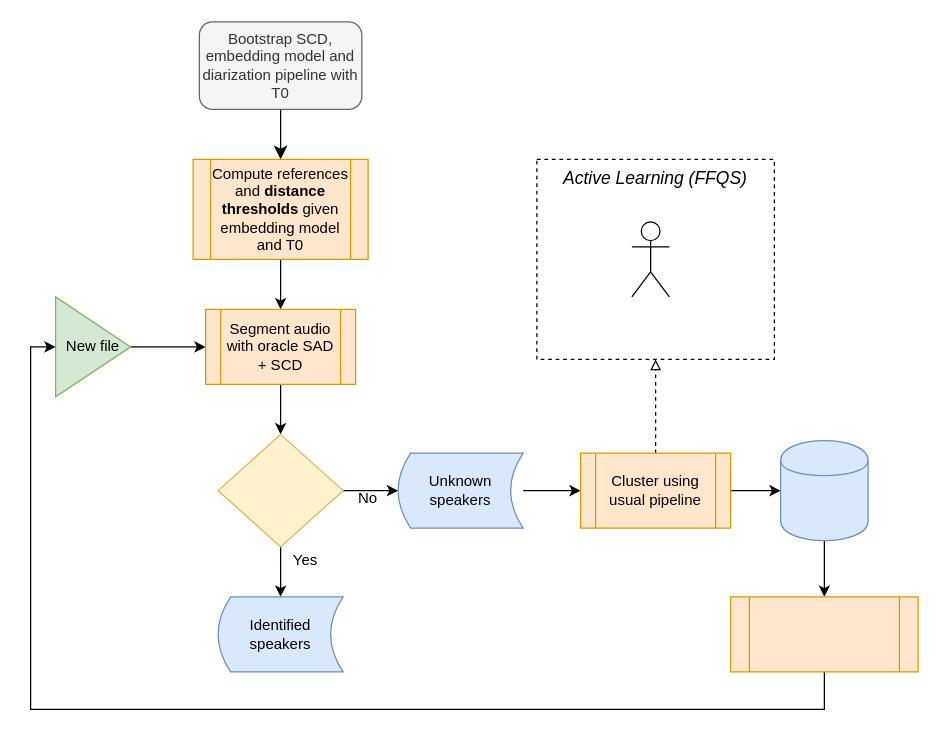
Image size: 940x741. Some labels were removed from this diagram. The box of each missing label's shape, as (x1, y1, x2, y2) in pixels:
Give final hypothesis (i.e. assign to closest regardless of distance): (729, 596, 918, 672)
speech turn close to reference ?: (217, 433, 343, 547)
Update references: (779, 439, 868, 541)
User: (631, 221, 669, 297)
